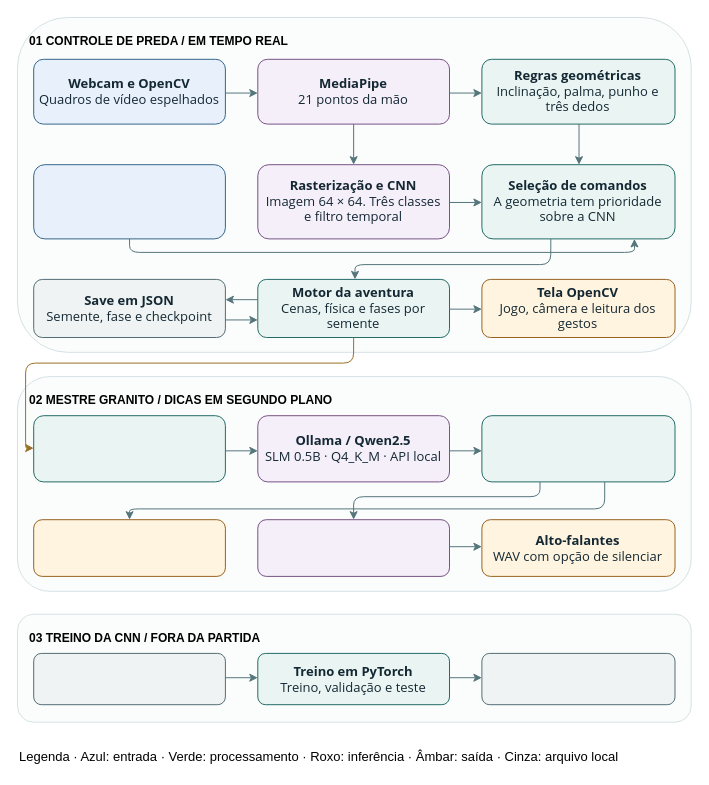
The diagram is 709 pixels wide and 785 high, and some of its shapes have lost their labels. The shapes that lost their labels are listed below. From the top down, each one's centre as x and y in pixels, then its label:
At point (129, 201): "Teclado e mouse Controles alternativos".
At point (129, 448): "Treinador assíncrono Métricas e instruções ao SLM".
At point (578, 448): "Validação da dica JSON validado ou dica de contingência".
At point (129, 547): "Painel do Granito Dica exibida em texto".
At point (353, 547): "Piper / Cadu Sintetiza dicas e falas do roteiro".
At point (129, 678): "Dados de treino Gestos sintéticos ou pontos em CSV".
At point (578, 678): "Pesos .npz Usados pela CNN na inicialização".
